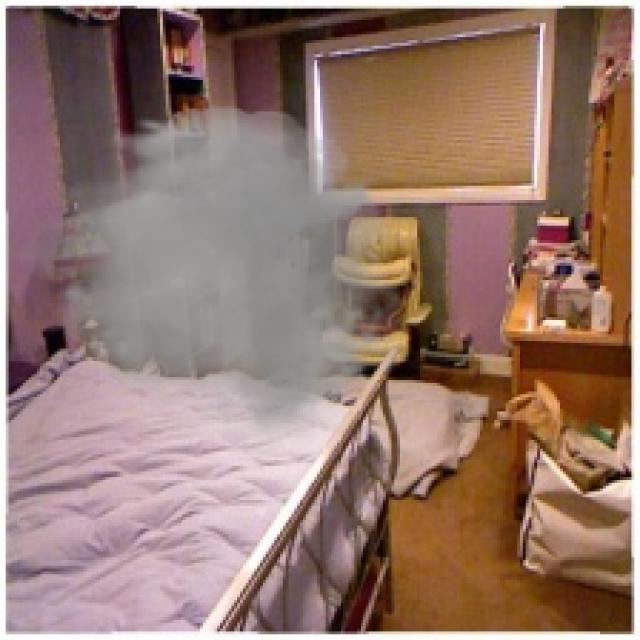smoke: (6, 97, 423, 463)
